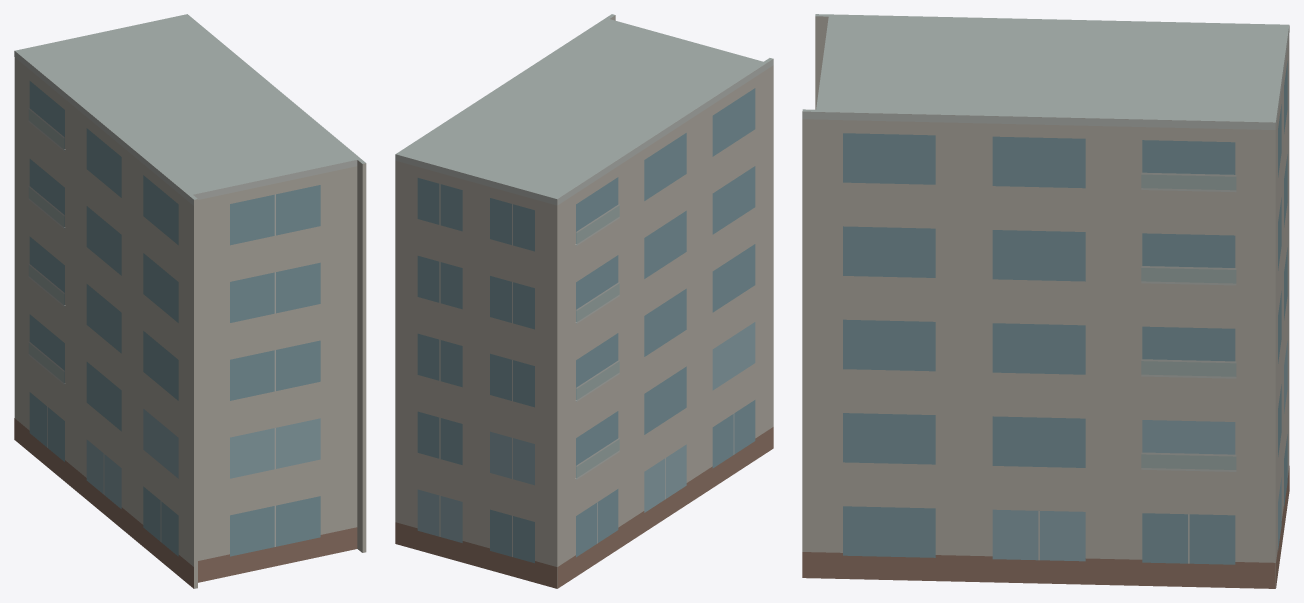
The model's file is survey-upis-32771589.glb.
The picture shows the model from 3 angles, left to right: view 1: azimuth 30°, elevation 25°; view 2: azimuth 150°, elevation 25°; view 3: azimuth 270°, elevation 25°; orthographic projection. The views are drawn at different scales.
Visible parts, largest first — view 1: survey-upis-32771589.tmp; view 2: survey-upis-32771589.tmp; view 3: survey-upis-32771589.tmp.
Boxes of the visible parts, <box> form: survey-upis-32771589.tmp: <box>14,14,366,588</box>; survey-upis-32771589.tmp: <box>395,14,773,588</box>; survey-upis-32771589.tmp: <box>802,14,1289,588</box>.
Size of the model in its own units: 7.44 by 14.9 by 14.11.
